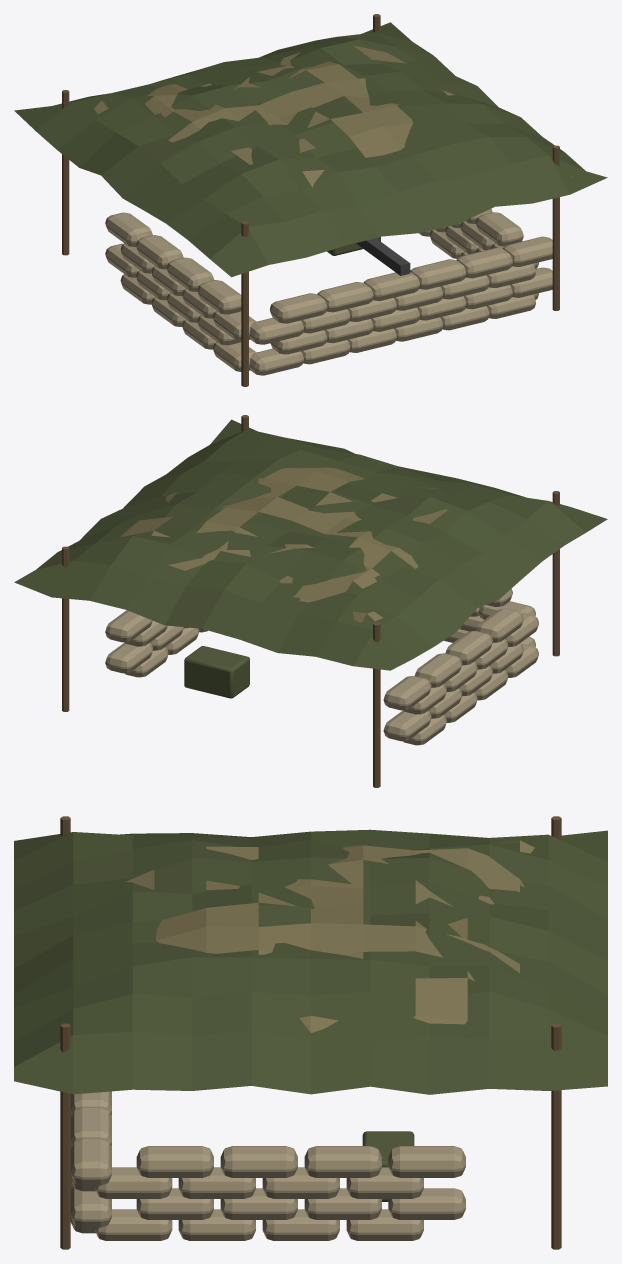
Rendered from Prop_Bunker.fbx.
3 renders of one model, top to bottom at view 1: azimuth 30°, elevation 25°; view 2: azimuth 150°, elevation 25°; view 3: azimuth 270°, elevation 25°, orthographic. The views are drawn at different scales.
Visible parts, largest first — view 1: Prop_Bunker_Mesh; view 2: Prop_Bunker_Mesh; view 3: Prop_Bunker_Mesh.
Part boxes in pixels (x1,y1,x2,y2): Prop_Bunker_Mesh: (14,14,607,386); Prop_Bunker_Mesh: (14,415,607,787); Prop_Bunker_Mesh: (14,816,607,1249).
Size of the model in its own units: 4.6 by 2.08 by 4.6.
